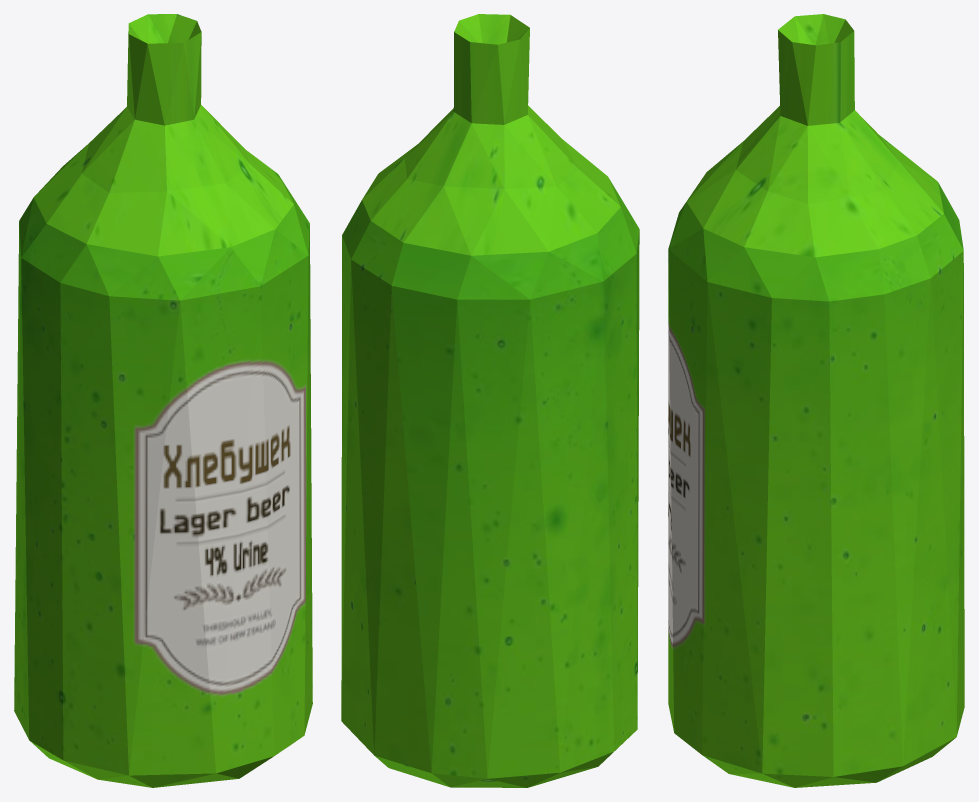
The model's file is bottle01.fbx.
The picture shows the model from 3 angles, left to right: view 1: azimuth 30°, elevation 25°; view 2: azimuth 150°, elevation 25°; view 3: azimuth 270°, elevation 25°; orthographic projection.
Visible parts, largest first — view 1: Cylinder; view 2: Cylinder; view 3: Cylinder.
Boxes of the visible parts, bbox=[...] form: Cylinder: bbox=[14, 14, 312, 787]; Cylinder: bbox=[341, 14, 639, 787]; Cylinder: bbox=[668, 14, 964, 787].
Bounding box in the file's own units: 200 × 524 × 200.
